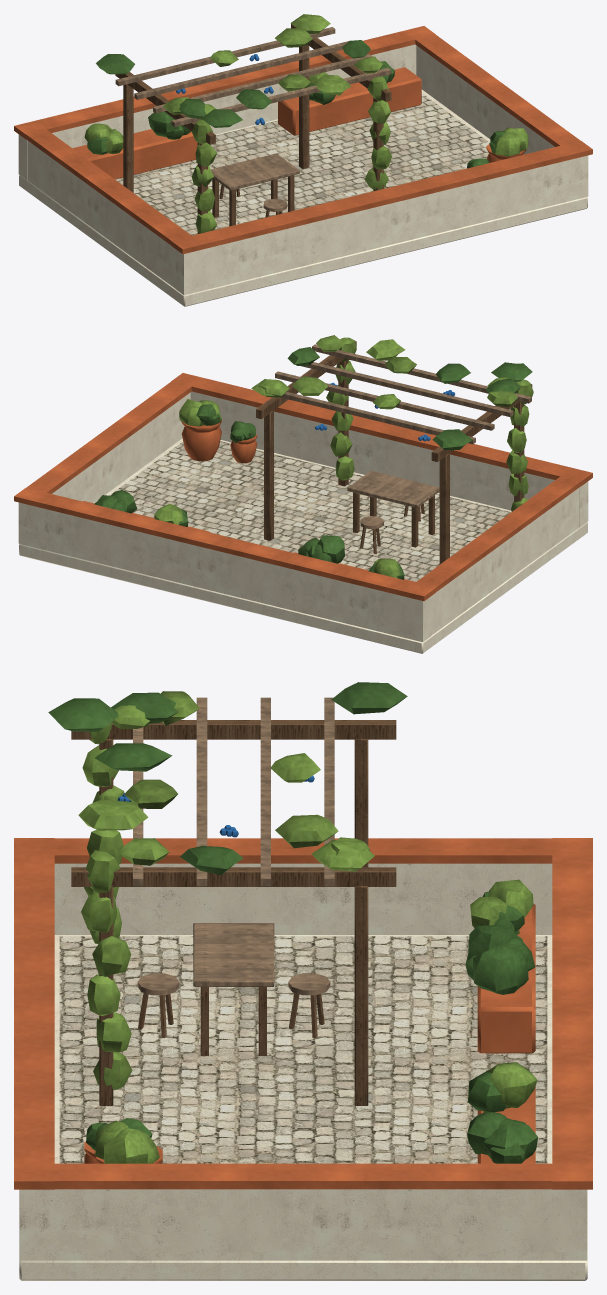
Rendered from home_villa-roof_t3_garden.glb.
3 views of the same model, one above another, from view 1: azimuth 30°, elevation 25°; view 2: azimuth 150°, elevation 25°; view 3: azimuth 270°, elevation 25° (orthographic). The views are drawn at different scales.
Visible parts, largest first — view 1: cream, paving, terracotta0, leaf, wood, terracotta, wood_dark, leaf_dark; view 2: cream, paving, terracotta0, leaf, wood, wood_dark, leaf_dark, terracotta; view 3: paving, cream, terracotta0, leaf, wood_dark, leaf_dark, wood, terracotta.
Part boxes in pixels (left/top/right/bottom): cream: left=18, top=44, right=588, bottom=306; paving: left=115, top=93, right=489, bottom=235; terracotta0: left=14, top=26, right=592, bottom=254; leaf: left=84, top=14, right=528, bottom=233; wood: left=115, top=27, right=391, bottom=211; terracotta: left=73, top=67, right=526, bottom=179; wood_dark: left=115, top=24, right=391, bottom=233; leaf_dark: left=87, top=40, right=505, bottom=168; cream: left=18, top=391, right=588, bottom=653; paving: left=109, top=441, right=511, bottom=581; terracotta0: left=14, top=373, right=592, bottom=601; leaf: left=154, top=335, right=533, bottom=577; wood: left=275, top=344, right=531, bottom=529; wood_dark: left=256, top=341, right=532, bottom=564; leaf_dark: left=94, top=347, right=532, bottom=579; terracotta: left=83, top=420, right=415, bottom=582; paving: left=59, top=936, right=547, bottom=1163; cream: left=19, top=863, right=587, bottom=1280; terracotta0: left=14, top=838, right=592, bottom=1189; leaf: left=78, top=691, right=537, bottom=1163; wood_dark: left=71, top=720, right=396, bottom=1105; leaf_dark: left=48, top=682, right=537, bottom=1163; wood: left=133, top=697, right=334, bottom=995; terracotta: left=84, top=903, right=535, bottom=1163.
Bounding box in the file's own units: 7 × 2.74 × 4.99.
9 materials, 9 textured.
